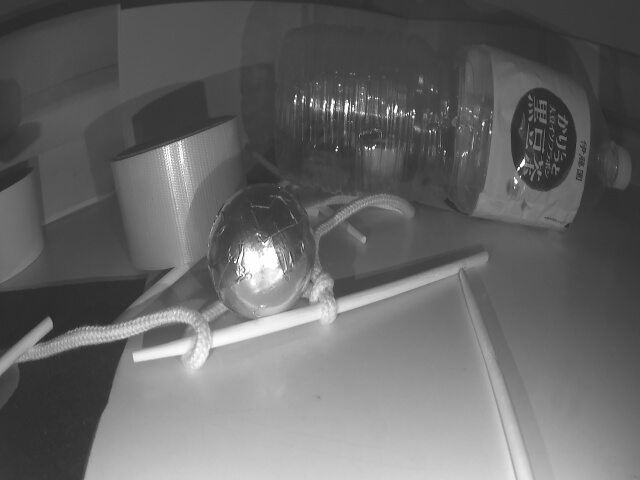Live: (207, 185, 315, 321)
